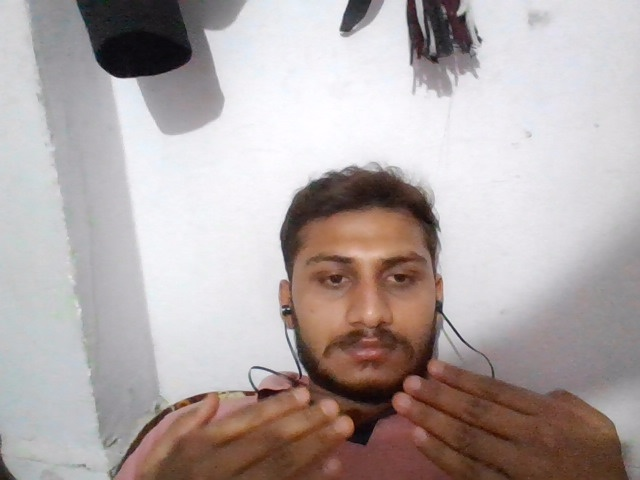Thanks: (131, 350, 640, 480)
